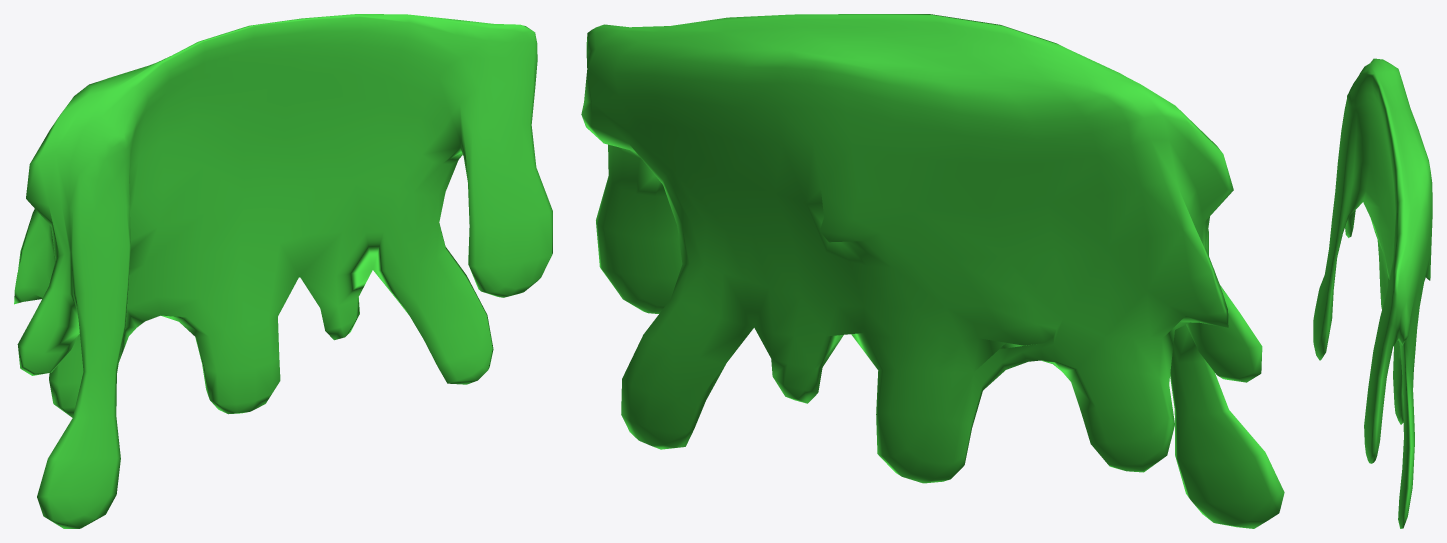
The model's file is muco1.fbx.
3 renders of one model, left to right at view 1: azimuth 30°, elevation 25°; view 2: azimuth 150°, elevation 25°; view 3: azimuth 270°, elevation 25°, orthographic. The views are drawn at different scales.
Parts seen in each view (by area): view 1: Retopo_Sphere.003; view 2: Retopo_Sphere.003; view 3: Retopo_Sphere.003.
Boxes of the visible parts, x1,y1,x2,y2 form: Retopo_Sphere.003: (14,14,552,528); Retopo_Sphere.003: (581,14,1284,528); Retopo_Sphere.003: (1313,58,1432,528).
Bounding box in the file's own units: 477 × 355 × 113.
